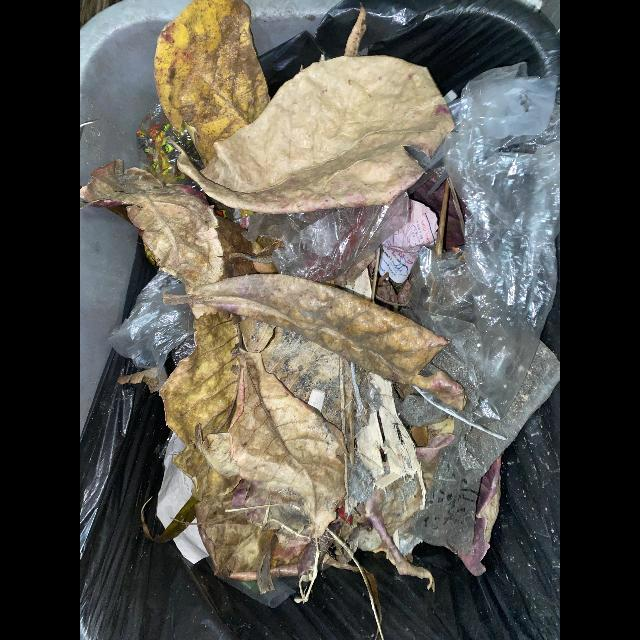paper: (381, 199, 438, 253)
plastic_bag: (398, 62, 560, 424)
